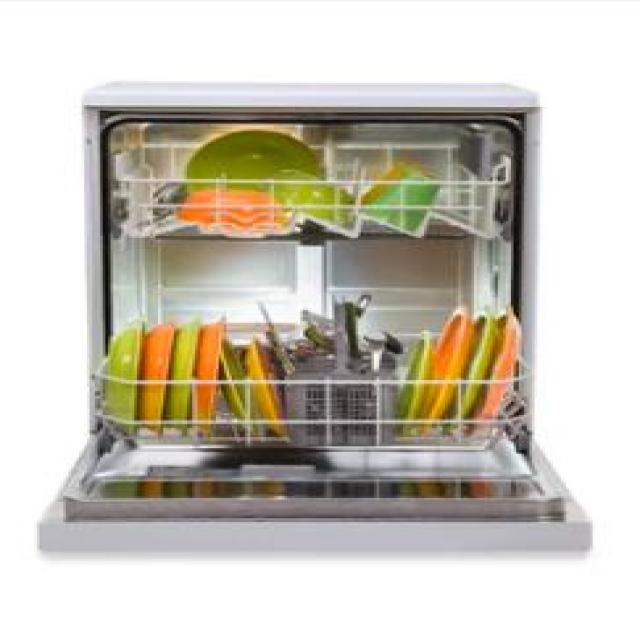dishwasher: (34, 83, 590, 557)
